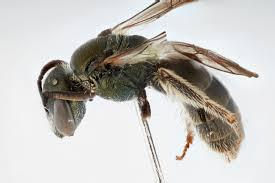Lasioglossum: (37, 0, 249, 177)
